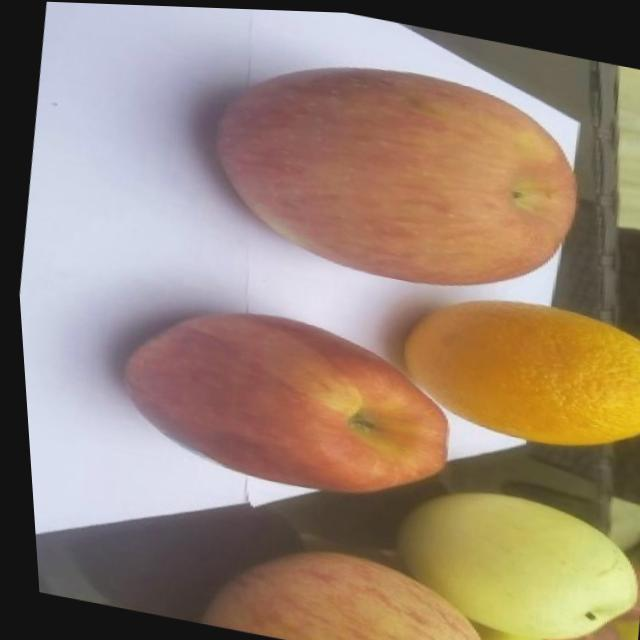Apple: (189, 33, 596, 311), (101, 287, 462, 515), (187, 526, 493, 640)
Orange: (384, 276, 640, 463)
